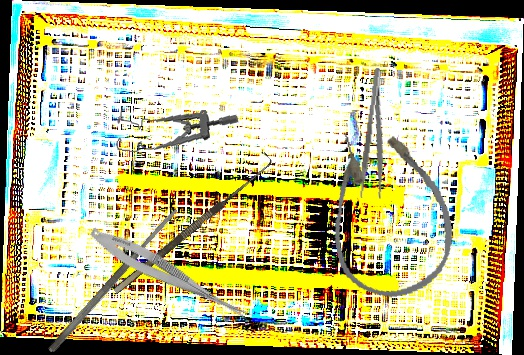Cannula: (315, 116, 463, 307)
Dressing Forceps: (357, 67, 396, 201)
Hook Surgical: (106, 151, 276, 295)
Micro Scissor: (85, 222, 259, 327)
Spatula Surgical: (46, 205, 182, 355)
Speculum: (112, 99, 240, 165)
